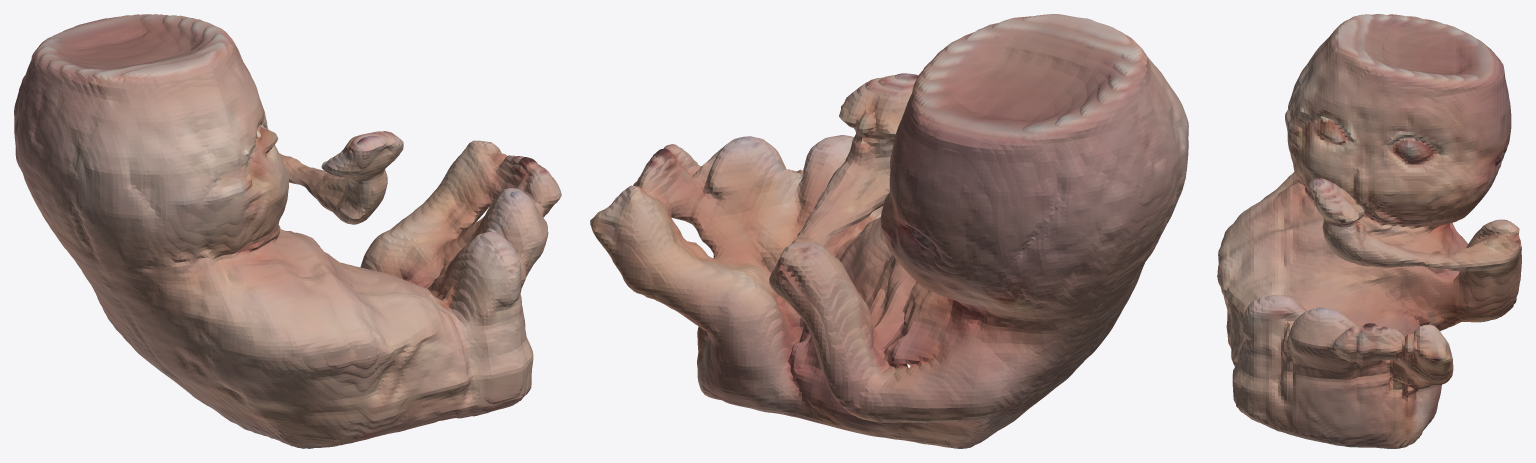
Rendered from fetus_w07.glb.
3 renders of one model, left to right at view 1: azimuth 30°, elevation 25°; view 2: azimuth 150°, elevation 25°; view 3: azimuth 270°, elevation 25°, orthographic. The views are drawn at different scales.
Parts seen in each view (by area): view 1: world; view 2: world; view 3: world.
Part boxes in pixels (<box>): world: <box>14,14,561,448</box>; world: <box>590,14,1188,448</box>; world: <box>1217,14,1521,448</box>.
Size of the model in its own units: 0.9934 by 0.7483 by 0.6881.
